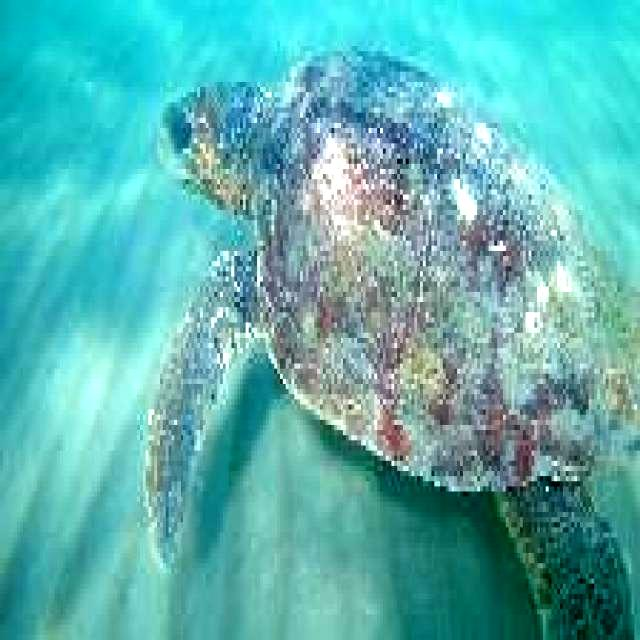Sea turtle: (137, 37, 640, 640)
